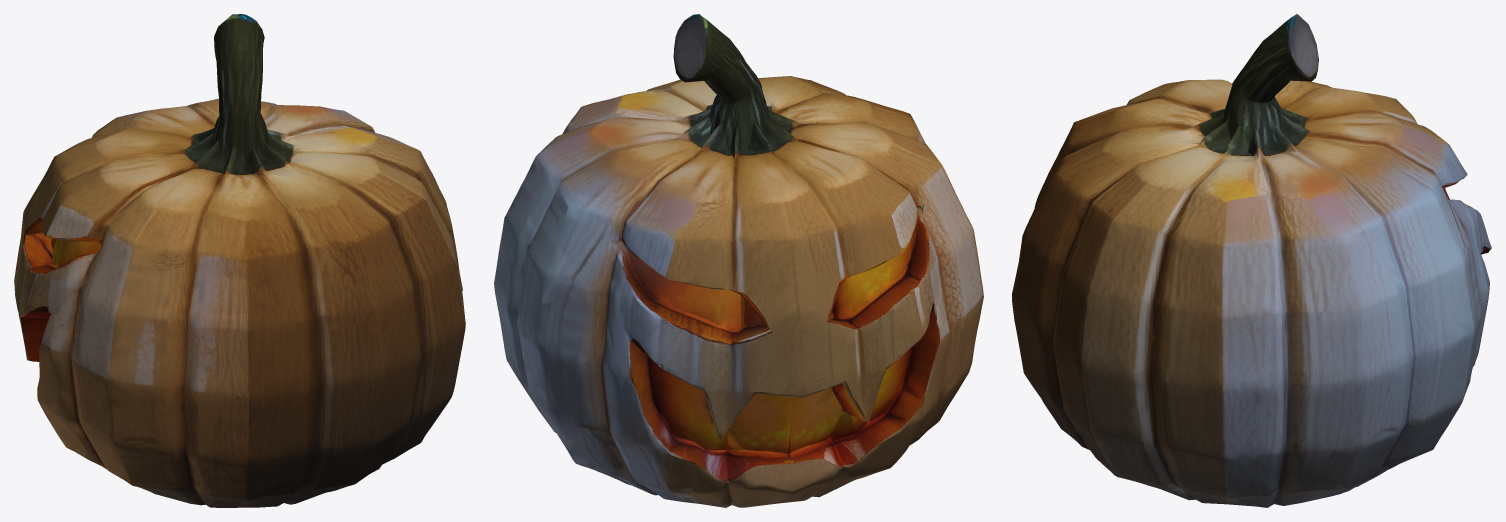
The model's file is Pumpkin.gltf.
3 renders of one model, left to right at view 1: azimuth 30°, elevation 25°; view 2: azimuth 150°, elevation 25°; view 3: azimuth 270°, elevation 25°, orthographic. The views are drawn at different scales.
Parts seen in each view (by area): view 1: an orange jackolantern; view 2: an orange jackolantern; view 3: an orange jackolantern.
Boxes of the visible parts, <box> form: an orange jackolantern: <box>14,14,465,507</box>; an orange jackolantern: <box>494,14,983,507</box>; an orange jackolantern: <box>1012,14,1491,507</box>.
Size of the model in its own units: 4.09 by 4.18 by 4.09.
1 material, 1 textured.
